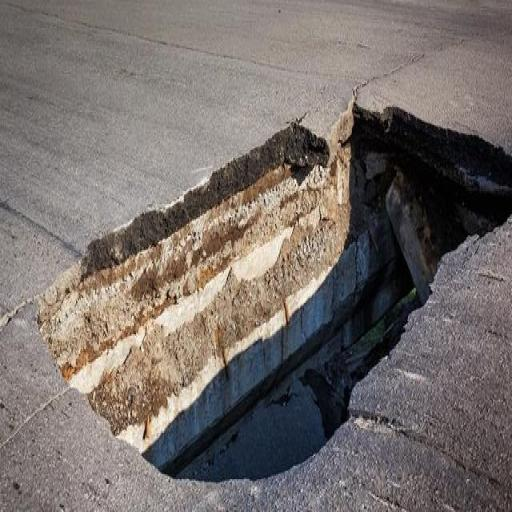Concentric_Crack: (38, 103, 512, 481)
